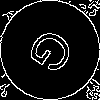G: (25, 25, 85, 83)
